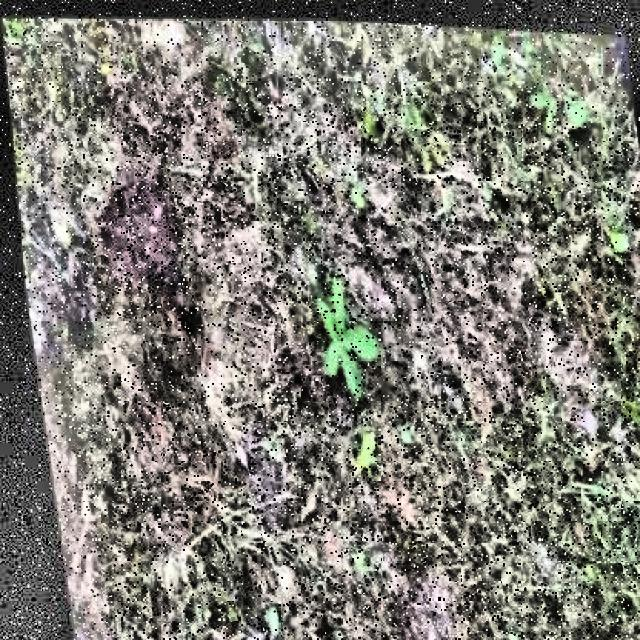Weeds: (299, 270, 376, 392)
